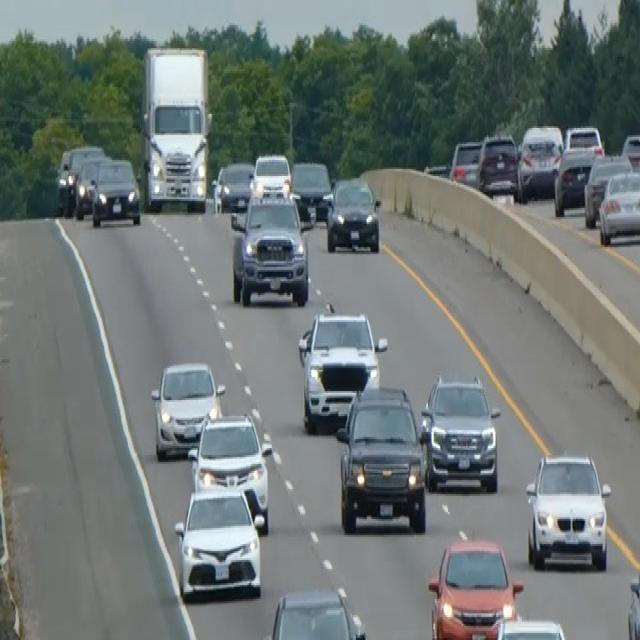car: (335, 382, 427, 534), (297, 302, 387, 432), (187, 409, 272, 533), (524, 450, 611, 570), (173, 483, 261, 601), (427, 535, 523, 638), (419, 372, 500, 492), (150, 357, 225, 459), (259, 583, 367, 638), (325, 175, 381, 252), (476, 598, 579, 638), (583, 151, 633, 226), (90, 156, 141, 228), (516, 123, 563, 201), (56, 142, 104, 215), (553, 144, 600, 215), (598, 167, 639, 245), (476, 132, 519, 198), (290, 158, 332, 222), (74, 153, 111, 219), (212, 158, 254, 214), (488, 614, 571, 638), (250, 151, 291, 197), (449, 137, 482, 187), (563, 123, 604, 153), (55, 146, 73, 212), (627, 564, 639, 638), (621, 132, 639, 170)
jeep: (228, 185, 311, 307)
lorry: (138, 43, 213, 213)
